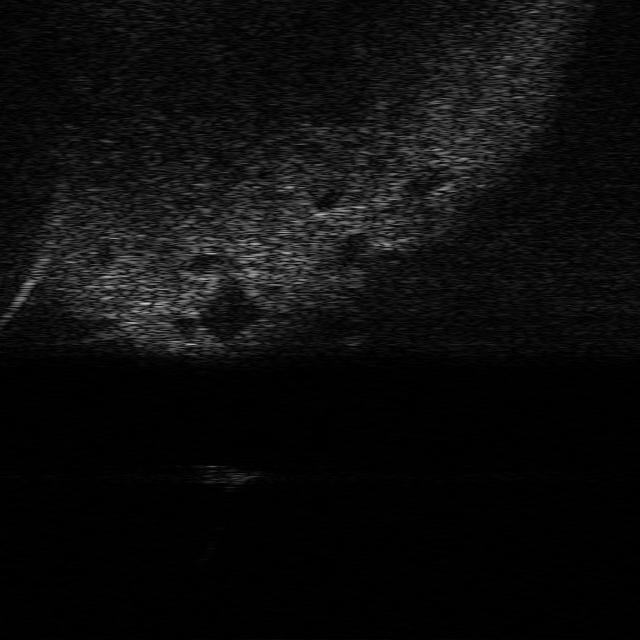cube: (196, 464, 258, 486)
